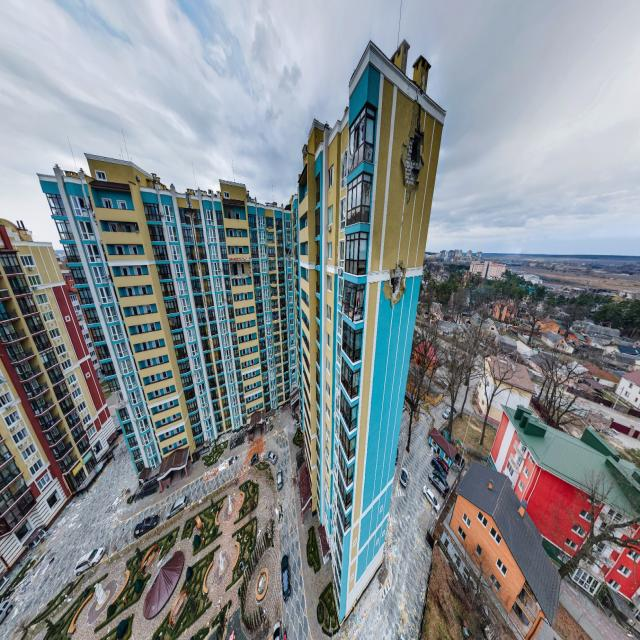broken_window: (347, 105, 376, 176), (341, 151, 347, 190), (362, 181, 371, 206), (277, 247, 284, 258)
building: (36, 38, 446, 627)
damage: (184, 193, 214, 351), (401, 66, 428, 205), (383, 260, 406, 308), (341, 280, 357, 322), (228, 257, 252, 279), (111, 389, 129, 411), (224, 206, 240, 219), (285, 247, 291, 257), (259, 418, 265, 424), (247, 418, 251, 424)
other: (340, 0, 640, 640), (0, 6, 163, 640), (161, 409, 340, 640)
